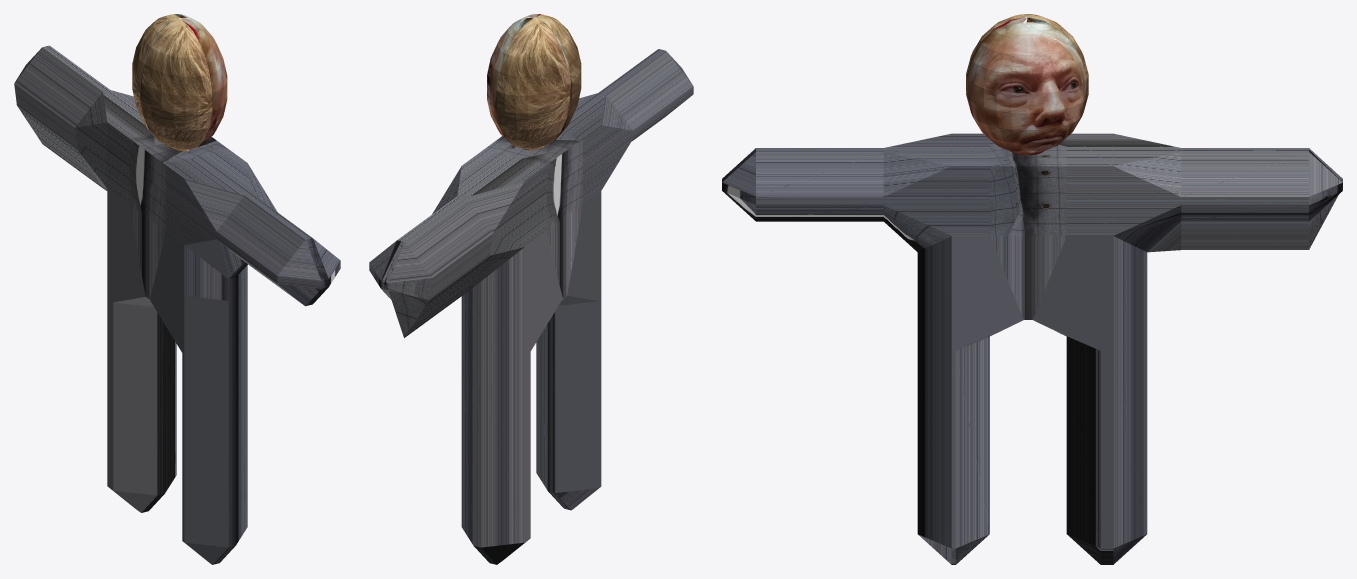
File: man1.glb
The picture shows the model from 3 angles, left to right: view 1: azimuth 30°, elevation 25°; view 2: azimuth 150°, elevation 25°; view 3: azimuth 270°, elevation 25°; orthographic projection. The views are drawn at different scales.
Parts seen in each view (by area): view 1: Sphere; view 2: Sphere; view 3: Sphere.
Part boxes in pixels (x1,y1,x2,y2): Sphere: [14, 14, 340, 564]; Sphere: [369, 14, 693, 564]; Sphere: [722, 14, 1342, 564].
Bounding box in the file's own units: 0.5984 × 3.91 × 4.03.
2 materials, 2 textured.
